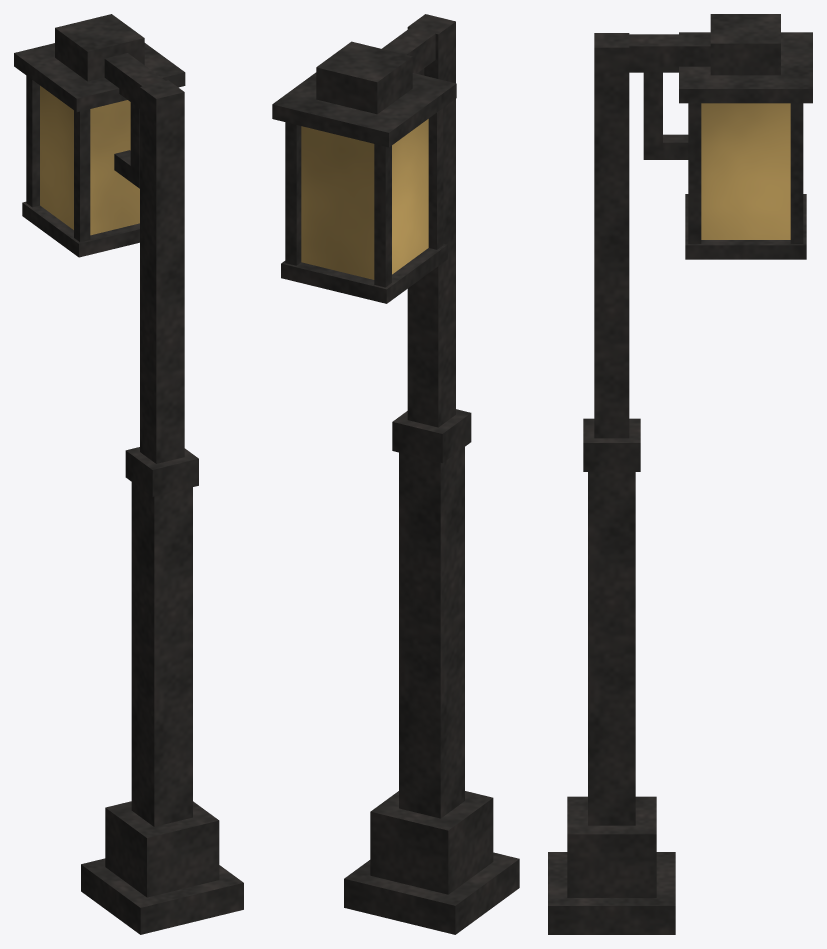
File: lamp_iron.glb
The picture shows the model from 3 angles, left to right: view 1: azimuth 30°, elevation 25°; view 2: azimuth 150°, elevation 25°; view 3: azimuth 270°, elevation 25°; orthographic projection. The views are drawn at different scales.
Visible parts, largest first — view 1: lamp_iron; view 2: lamp_iron; view 3: lamp_iron.
Boxes of the visible parts, left/top/right/bottom form: lamp_iron: left=14, top=14, right=243, bottom=934; lamp_iron: left=272, top=14, right=519, bottom=934; lamp_iron: left=548, top=14, right=812, bottom=934.
Size of the model in its own units: 0.42 by 3.04 by 0.83.
Materials: 2 (2 with a texture image).
